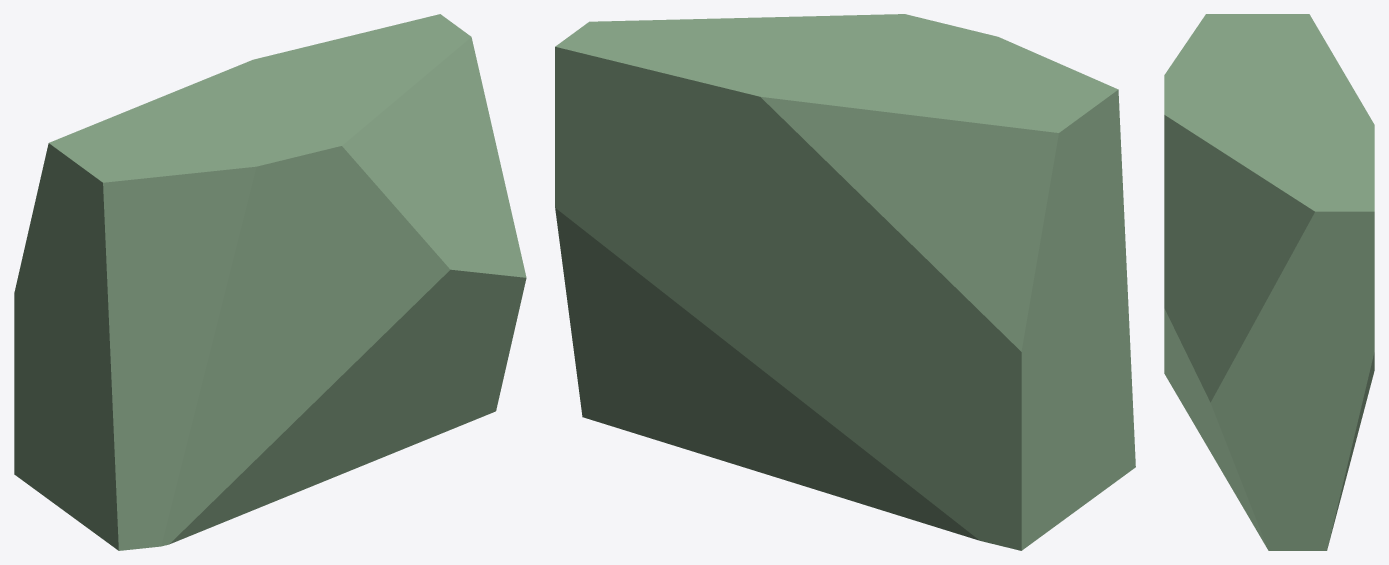
File: convex_rock6.obj
3 renders of one model, left to right at view 1: azimuth 30°, elevation 25°; view 2: azimuth 150°, elevation 25°; view 3: azimuth 270°, elevation 25°, orthographic. The views are drawn at different scales.
Visible parts, largest first — view 1: Rock6\Solid; view 2: Rock6\Solid; view 3: Rock6\Solid.
Part boxes in pixels (left/top/right/bottom): Rock6\Solid: left=14, top=14, right=526, bottom=550; Rock6\Solid: left=555, top=14, right=1135, bottom=550; Rock6\Solid: left=1164, top=14, right=1374, bottom=550.
Size of the model in its own units: 1000 by 800 by 449.
